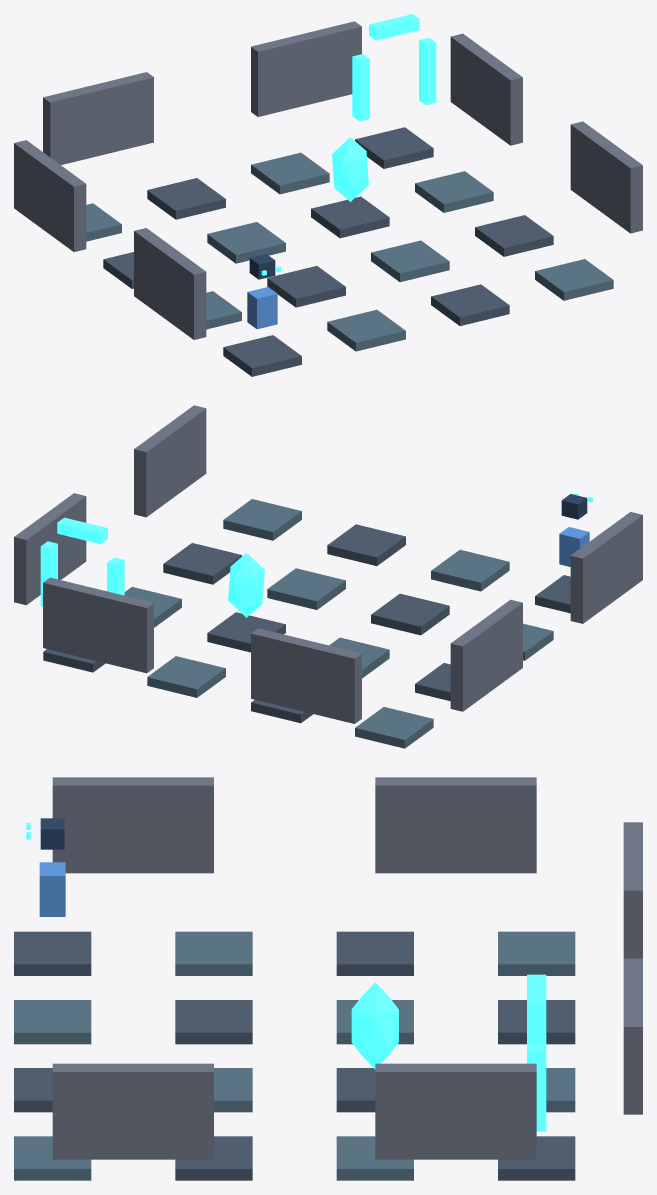
The model's file is demo-kit.glb.
3 renders of one model, top to bottom at view 1: azimuth 30°, elevation 25°; view 2: azimuth 150°, elevation 25°; view 3: azimuth 270°, elevation 25°, orthographic. The views are drawn at different scales.
Parts seen in each view (by area): view 1: GEO_Wall_04, GEO_Wall_05, GEO_Wall_00, GEO_Wall_02, GEO_Wall_03, GEO_Wall_01, GEO_Tile_01_00, GEO_Tile_02_01, GEO_Tile_02_03, GEO_Tile_01_03, GEO_Tile_02_00, GEO_Tile_03_00 (+16 smaller); view 2: GEO_Wall_05, GEO_Wall_04, GEO_Wall_00, GEO_Wall_01, GEO_Wall_02, GEO_Wall_03, GEO_Tile_01_00, GEO_Tile_01_01, GEO_Tile_00_03, GEO_Tile_02_00, GEO_Tile_02_01, GEO_Tile_03_00 (+16 smaller); view 3: GEO_Wall_01, GEO_Wall_03, GEO_Wall_02, GEO_Wall_00, GEO_Tile_00_01, GEO_Tile_01_01, GEO_Tile_00_00, GEO_Tile_00_02, GEO_Tile_01_00, GEO_Tile_00_03, GEO_Wall_05, PICKUP_Gem (+15 smaller).
Boxes of the visible parts, x1,y1,x2,y2 form: GEO_Wall_04: (43,72,153,164); GEO_Wall_05: (251,21,361,116); GEO_Wall_00: (134,228,206,339); GEO_Wall_02: (570,121,642,233); GEO_Wall_03: (450,33,522,145); GEO_Wall_01: (14,140,86,251); GEO_Tile_01_00: (327,309,405,351); GEO_Tile_02_01: (371,240,449,282); GEO_Tile_02_03: (251,152,329,194); GEO_Tile_01_03: (147,178,225,219); GEO_Tile_02_00: (431,284,509,325); GEO_Tile_03_00: (535,259,613,300); GEO_Wall_05: (43,577,153,673); GEO_Wall_04: (251,628,361,723); GEO_Wall_00: (570,512,642,623); GEO_Wall_01: (450,599,522,711); GEO_Wall_02: (134,405,206,517); GEO_Wall_03: (14,493,86,605); GEO_Tile_01_00: (431,549,509,591); GEO_Tile_01_01: (371,593,449,635); GEO_Tile_00_03: (355,707,433,748); GEO_Tile_02_00: (327,524,405,565); GEO_Tile_02_01: (267,568,345,609); GEO_Tile_03_00: (223,499,301,540); GEO_Wall_01: (375,777,536,873); GEO_Wall_03: (375,1063,536,1159); GEO_Wall_02: (52,1063,213,1159); GEO_Wall_00: (52,777,213,873); GEO_Tile_00_01: (175,931,252,975); GEO_Tile_01_01: (175,1000,252,1044); GEO_Tile_00_00: (14,931,91,975); GEO_Tile_00_02: (336,931,413,975); GEO_Tile_01_00: (14,1000,91,1044); GEO_Tile_00_03: (498,931,575,975); GEO_Wall_05: (623,958,642,1114); PICKUP_Gem: (351,982,398,1069).
Bounding box in the file's own units: 4.32 × 1.2 × 3.9.
